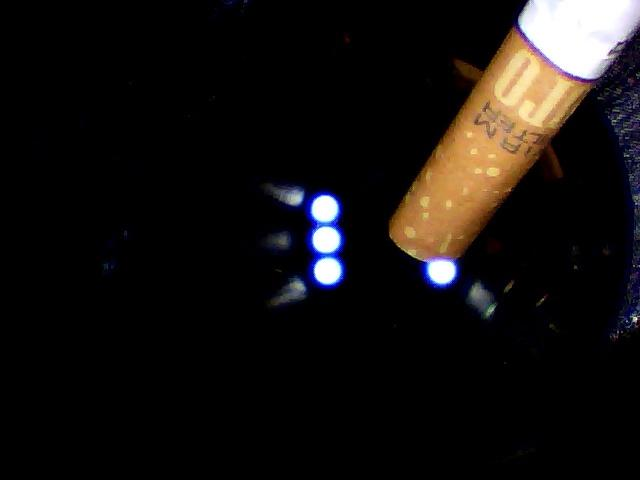megot: (381, 1, 639, 266)
